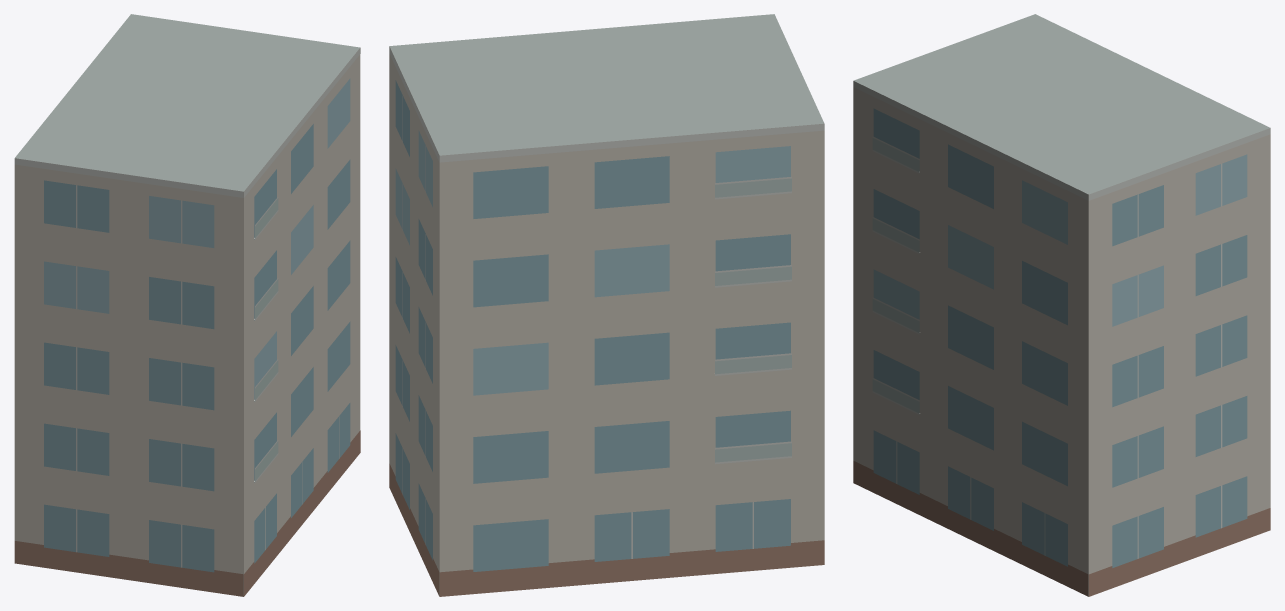
The model's file is survey-upis-33024469.glb.
3 renders of one model, left to right at view 1: azimuth 30°, elevation 25°; view 2: azimuth 150°, elevation 25°; view 3: azimuth 270°, elevation 25°, orthographic. The views are drawn at different scales.
Visible parts, largest first — view 1: survey-upis-33024469.tmp; view 2: survey-upis-33024469.tmp; view 3: survey-upis-33024469.tmp.
Boxes of the visible parts, x1,y1,x2,y2 form: survey-upis-33024469.tmp: (14, 14, 360, 596); survey-upis-33024469.tmp: (389, 14, 824, 596); survey-upis-33024469.tmp: (853, 14, 1270, 596).
Size of the model in its own units: 15.01 by 15.58 by 14.66.
